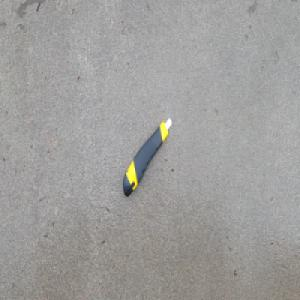Cutter: (121, 115, 173, 197)
